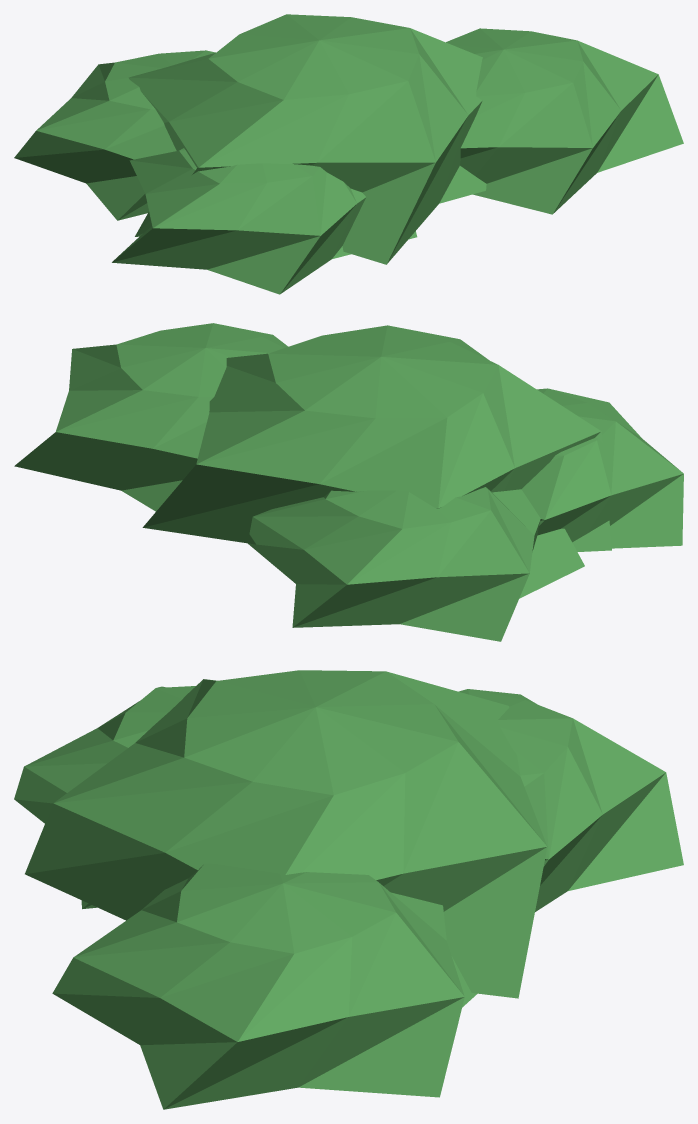
File: moss_c.glb
3 renders of one model, top to bottom at view 1: azimuth 30°, elevation 25°; view 2: azimuth 150°, elevation 25°; view 3: azimuth 270°, elevation 25°, orthographic. The views are drawn at different scales.
Visible parts, largest first — view 1: moss; view 2: moss; view 3: moss.
Boxes of the visible parts, x1=… form: moss: x1=14, y1=14, x2=683, y2=294; moss: x1=14, y1=323, x2=683, y2=641; moss: x1=14, y1=670, x2=683, y2=1109.
Size of the model in its own units: 0.9994 by 0.2394 by 0.7546.
